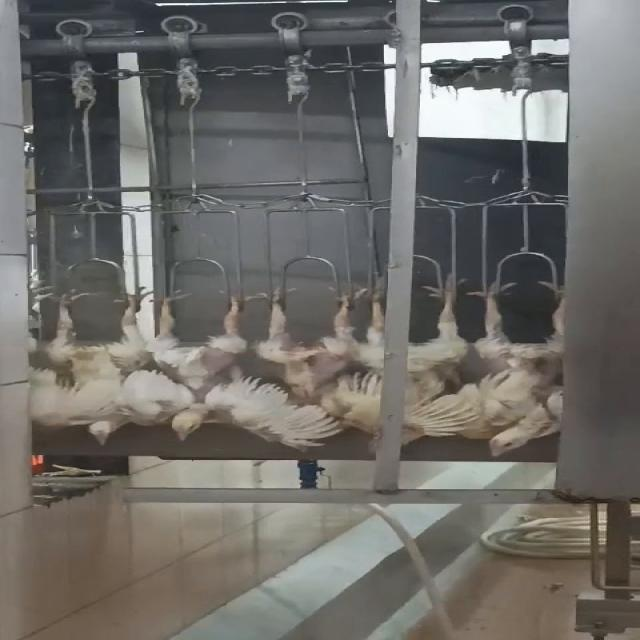chicken: (135, 288, 347, 451), (19, 285, 154, 449), (473, 272, 576, 462), (265, 286, 363, 421), (404, 274, 474, 443)
